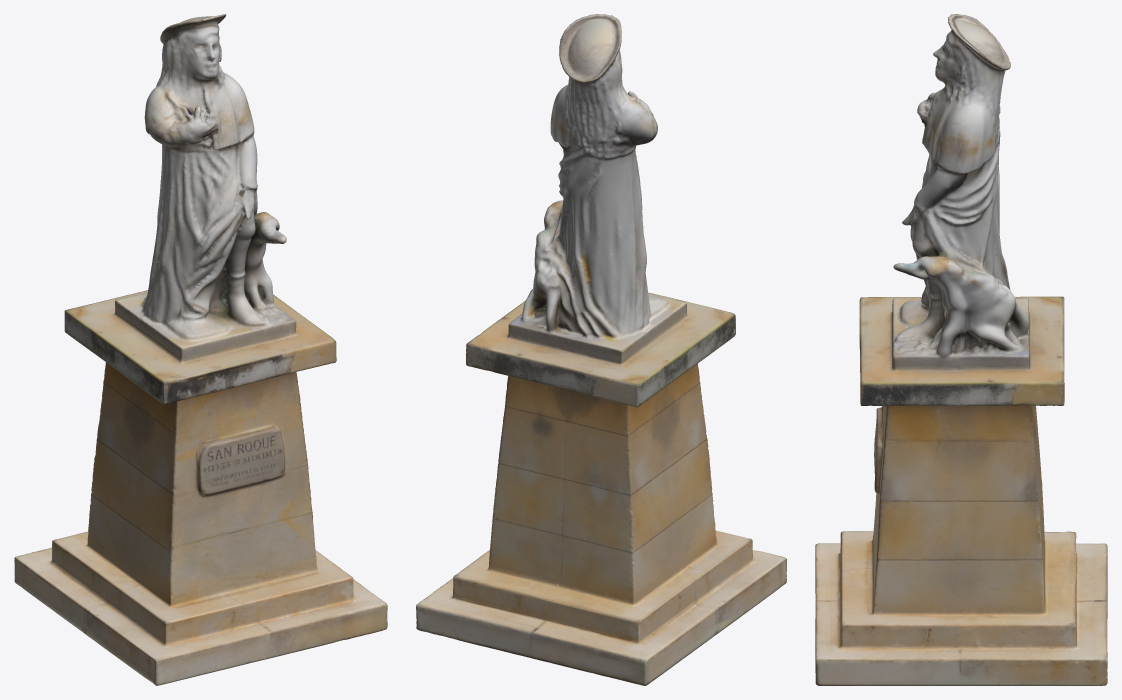
File: patron_sanroque.glb
3 views of the same model, side by side, from view 1: azimuth 30°, elevation 25°; view 2: azimuth 150°, elevation 25°; view 3: azimuth 270°, elevation 25° (orthographic). The views are drawn at different scales.
Size of the model in its own units: 0.8223 by 2 by 0.8711.
Materials: 1 (1 with a texture image).
